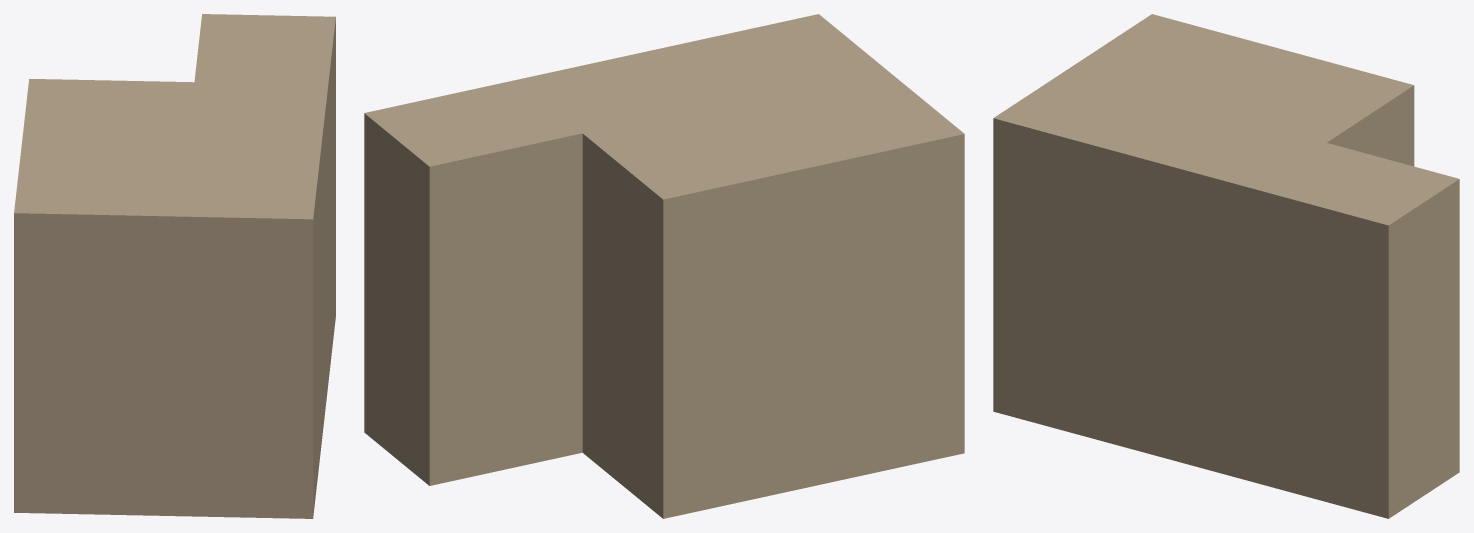
Rendered from bld_100469715.dae.
3 views of the same model, side by side, from view 1: azimuth 30°, elevation 25°; view 2: azimuth 150°, elevation 25°; view 3: azimuth 270°, elevation 25° (orthographic). The views are drawn at different scales.
Visible parts, largest first — view 1: bld_100469715; view 2: bld_100469715; view 3: bld_100469715.
Boxes of the visible parts, box(x1,y1,x2,y2) form: bld_100469715: box(14, 14, 335, 518); bld_100469715: box(364, 14, 964, 518); bld_100469715: box(993, 14, 1459, 518).
Bounding box in the file's own units: 12.37 × 11.52 × 8.
